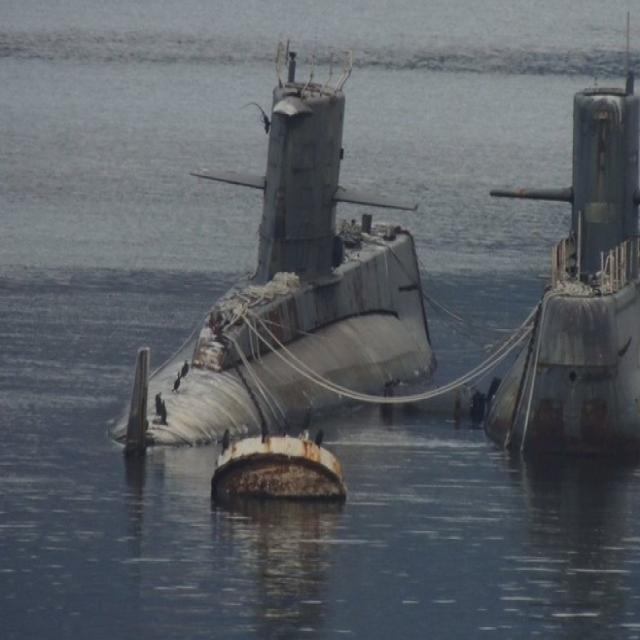submarine: (115, 49, 429, 448), (484, 51, 640, 448)
